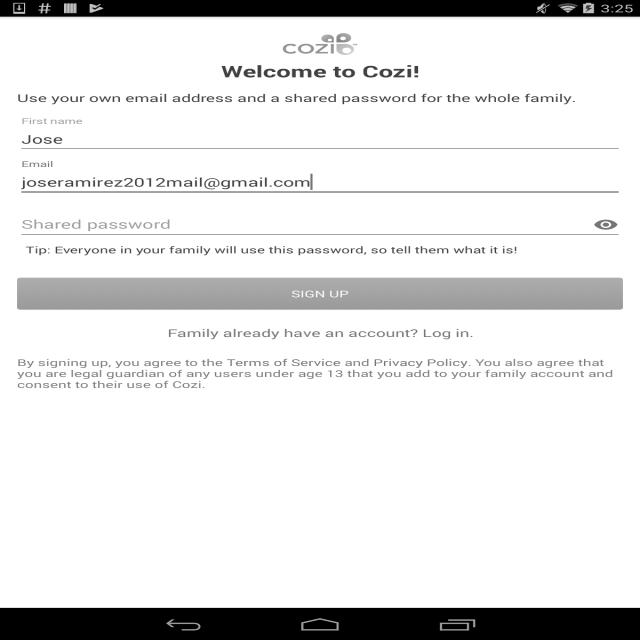Button: (17, 278, 623, 310)
EditText: (17, 124, 623, 154), (17, 167, 623, 197), (17, 210, 623, 240)
ImageButton: (589, 210, 623, 240)
ImageView: (283, 28, 357, 61)
TextView: (17, 356, 623, 424), (17, 87, 623, 109), (17, 326, 623, 340), (26, 243, 623, 256), (220, 60, 420, 82)
